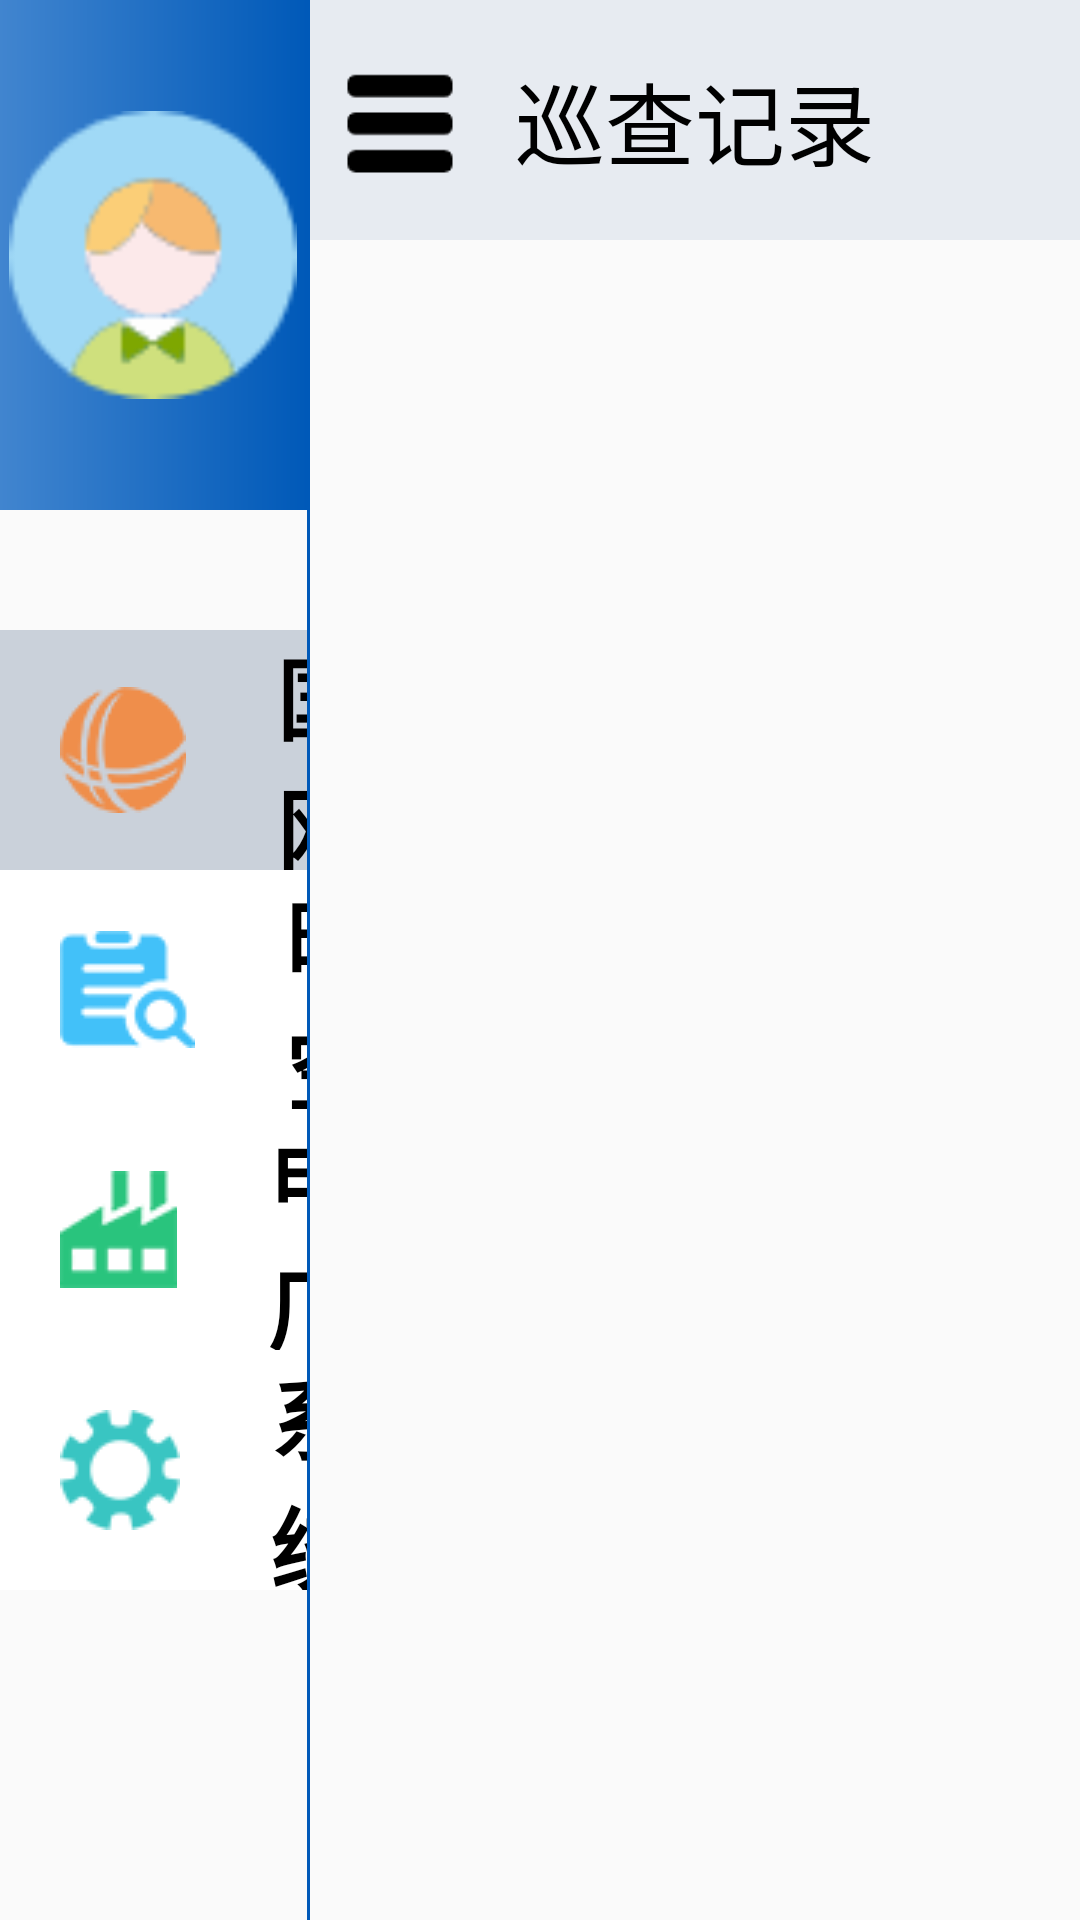

Where to tap for icons on this 1080×1920 app screen, as (x,y):
menu: (400,123)
profile man: (153,255)
settings: (120,1470)
shikong search: (127,989)
xuncha dianchang: (118,1229)
